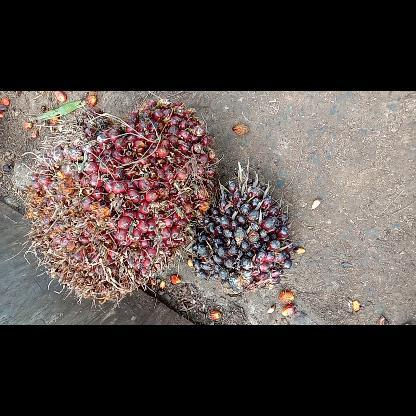TBS abnormal: (189, 157, 294, 291)
TBS masak: (13, 96, 216, 308)
